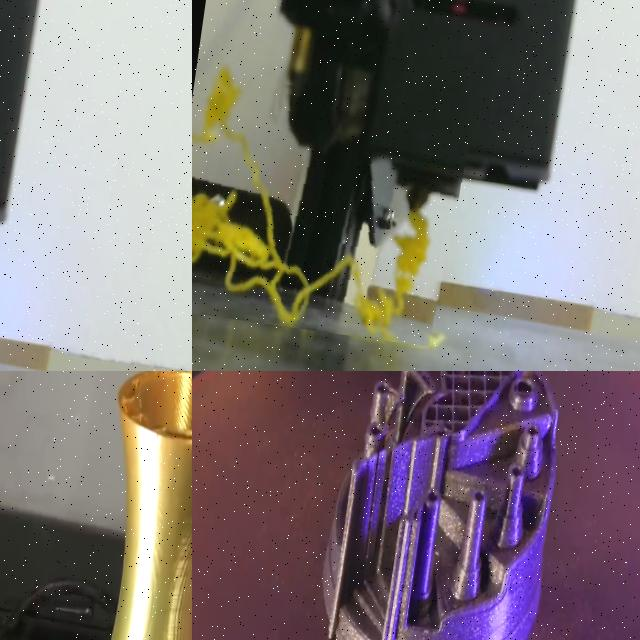spaghetti: (192, 71, 432, 345), (341, 333, 354, 336)
